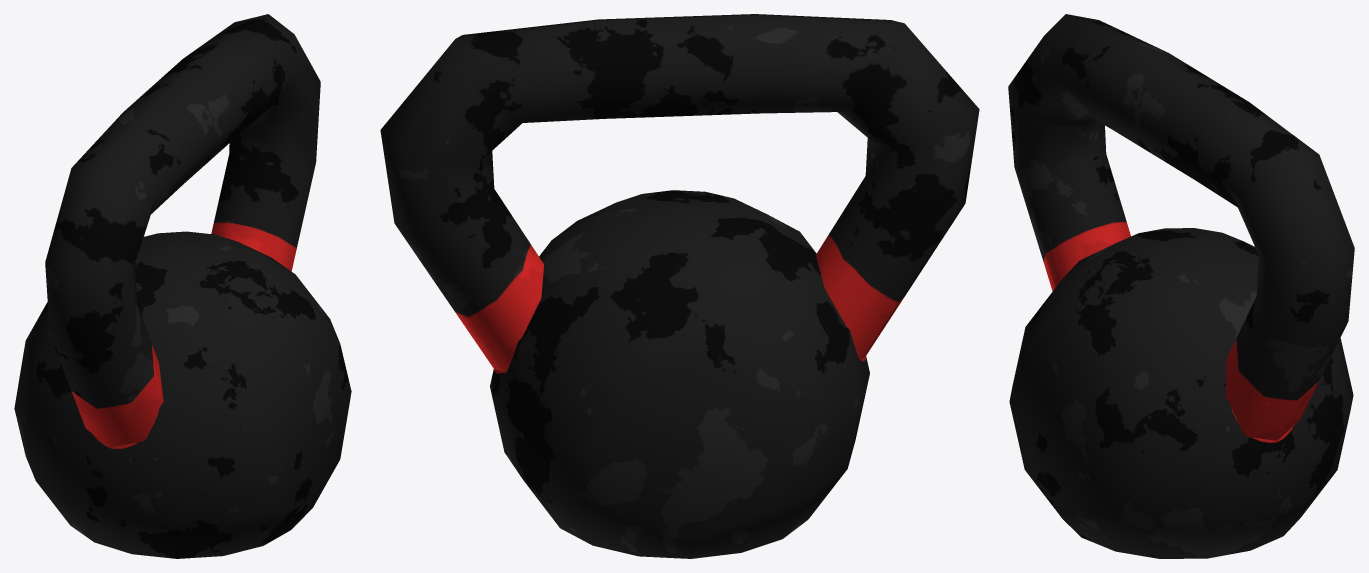
File: kettlebell.glb
The picture shows the model from 3 angles, left to right: view 1: azimuth 30°, elevation 25°; view 2: azimuth 150°, elevation 25°; view 3: azimuth 270°, elevation 25°; orthographic projection. The views are drawn at different scales.
Visible parts, largest first — view 1: Little_Kettlebell; view 2: Little_Kettlebell; view 3: Little_Kettlebell.
Boxes of the visible parts, x1,y1,x2,y2 form: Little_Kettlebell: (14,14,351,558); Little_Kettlebell: (380,14,979,558); Little_Kettlebell: (1008,14,1354,558).
Size of the model in its own units: 4.81 by 5.04 by 3.63.
Materials: 1 (1 with a texture image).
